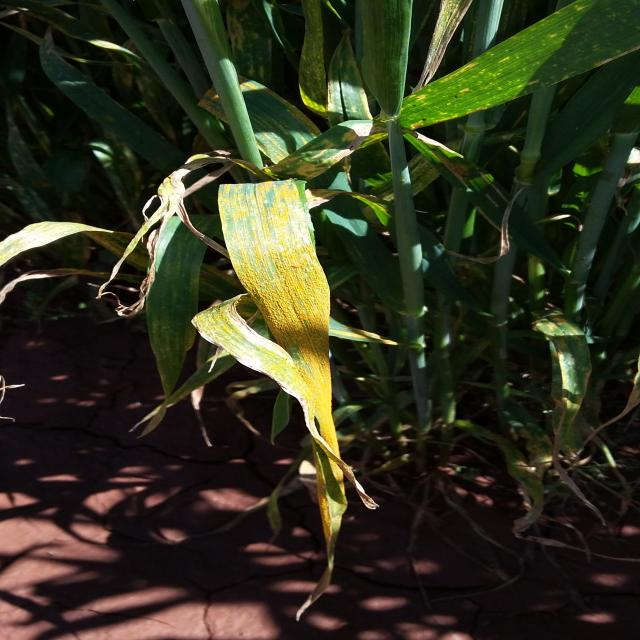leaf rust: (180, 241, 622, 447)
